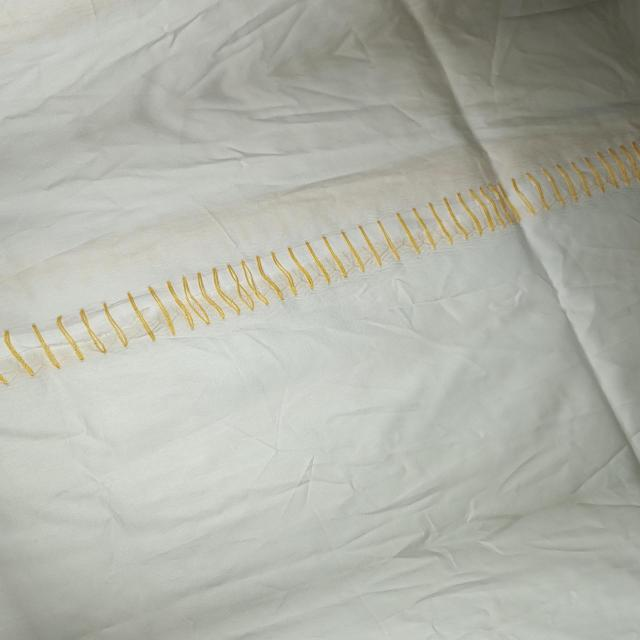gray stitch: (0, 240, 329, 380), (324, 140, 634, 282)
